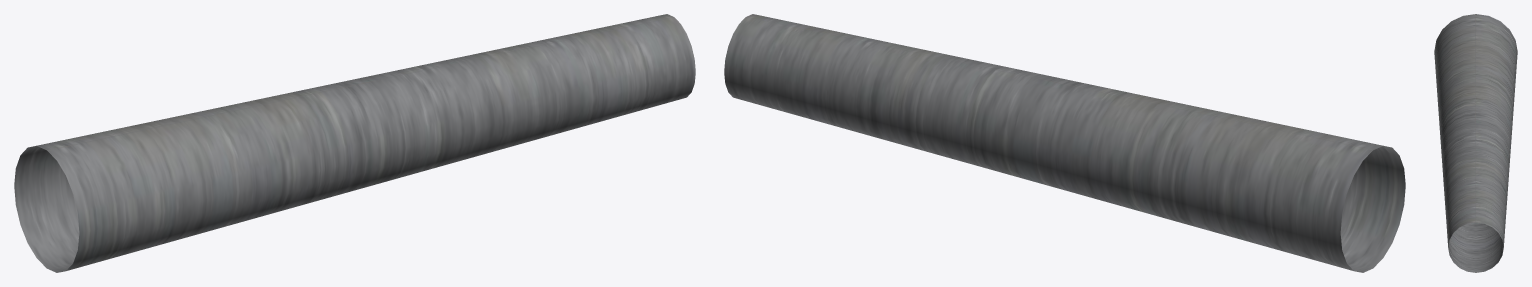
Rendered from armTube-v1-galvanised.glb.
The picture shows the model from 3 angles, left to right: view 1: azimuth 30°, elevation 25°; view 2: azimuth 150°, elevation 25°; view 3: azimuth 270°, elevation 25°; orthographic projection. The views are drawn at different scales.
Parts seen in each view (by area): view 1: armTube-v1-galvanised; view 2: armTube-v1-galvanised; view 3: armTube-v1-galvanised.
Boxes of the visible parts, x1,y1,x2,y2 form: armTube-v1-galvanised: (14, 14, 695, 272); armTube-v1-galvanised: (724, 14, 1405, 272); armTube-v1-galvanised: (1434, 14, 1517, 272).
Bounding box in the file's own units: 1 × 0.18 × 0.18.
Materials: 1 (1 with a texture image).
